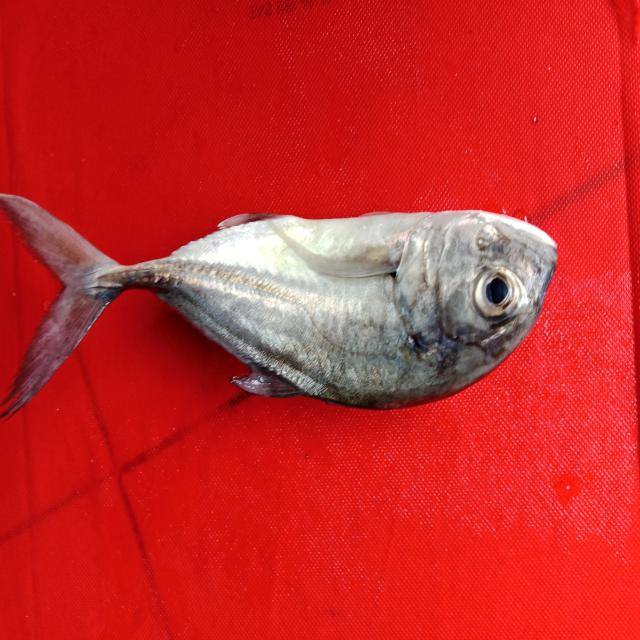ikan: (0, 156, 565, 430)
